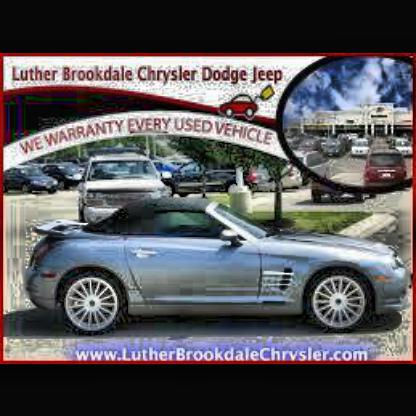Chrysler Crossfire Convertible 2008: (27, 199, 414, 337)
